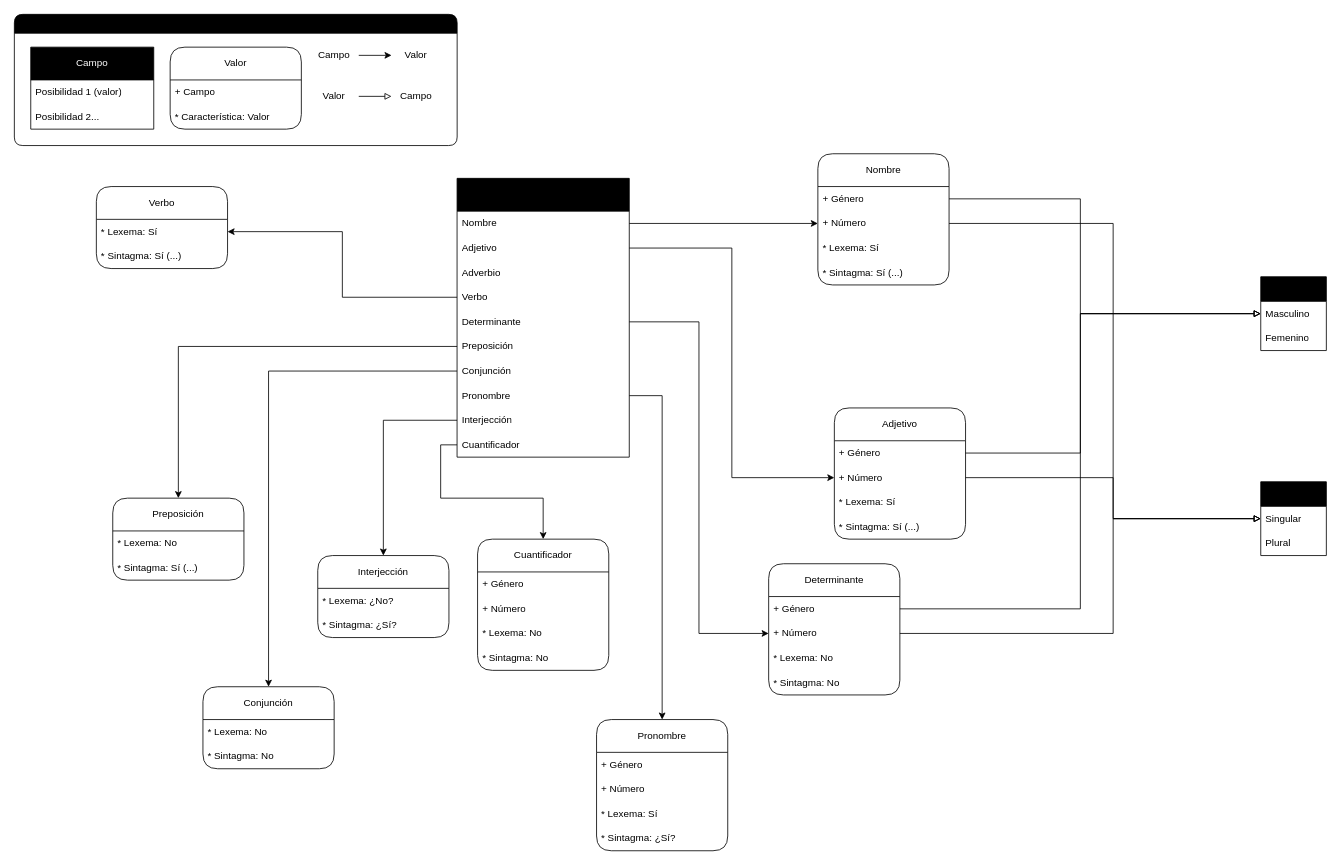
Image size: 1341x865. Some labels were removed from this diagram. The box of each missing label's shape, as (x1, y1, x2, y2) in pixels:
Clase de palabra: (456, 178, 629, 457)
Género: (1260, 276, 1326, 351)
Leyenda: (14, 14, 457, 146)
Número: (1260, 481, 1326, 556)
